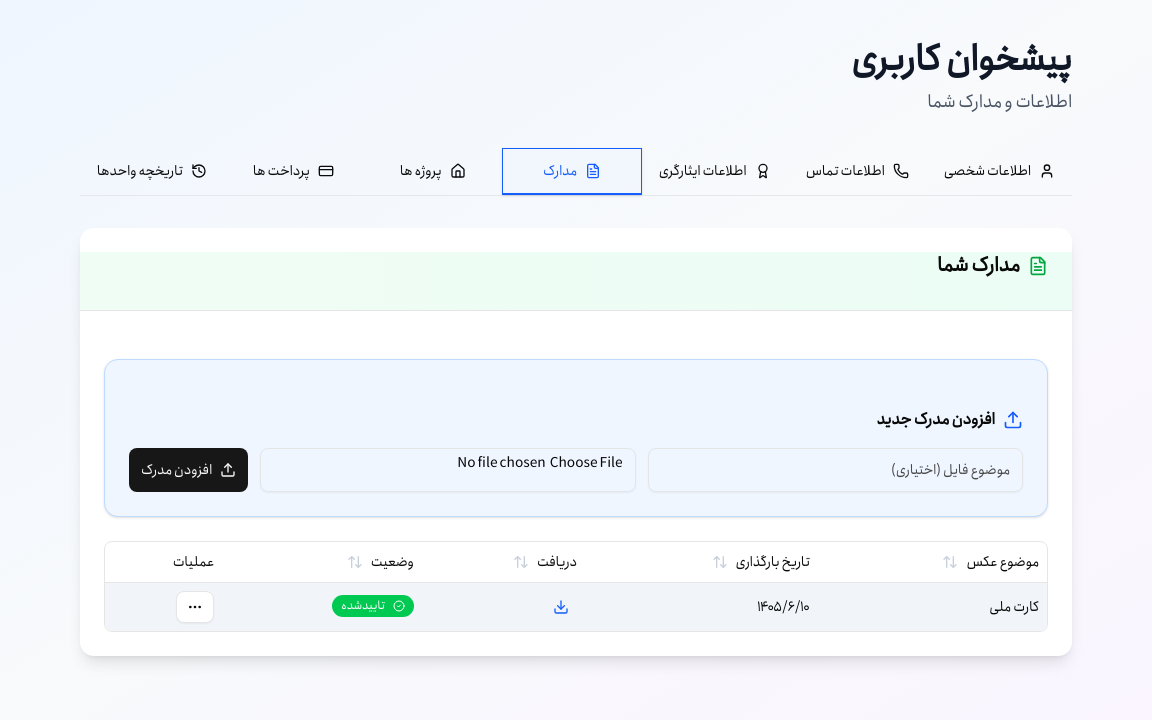
ProfilePage documents access › shows document actions without verification on an administrator dashboard
Expected: the text "کارت ملی" is shown, [989, 596, 1039, 618]
What coordinates should you click on to do the following:
click the button named "عملیات"
I would click on:
 (195, 606)
Its box is [176, 590, 214, 622].
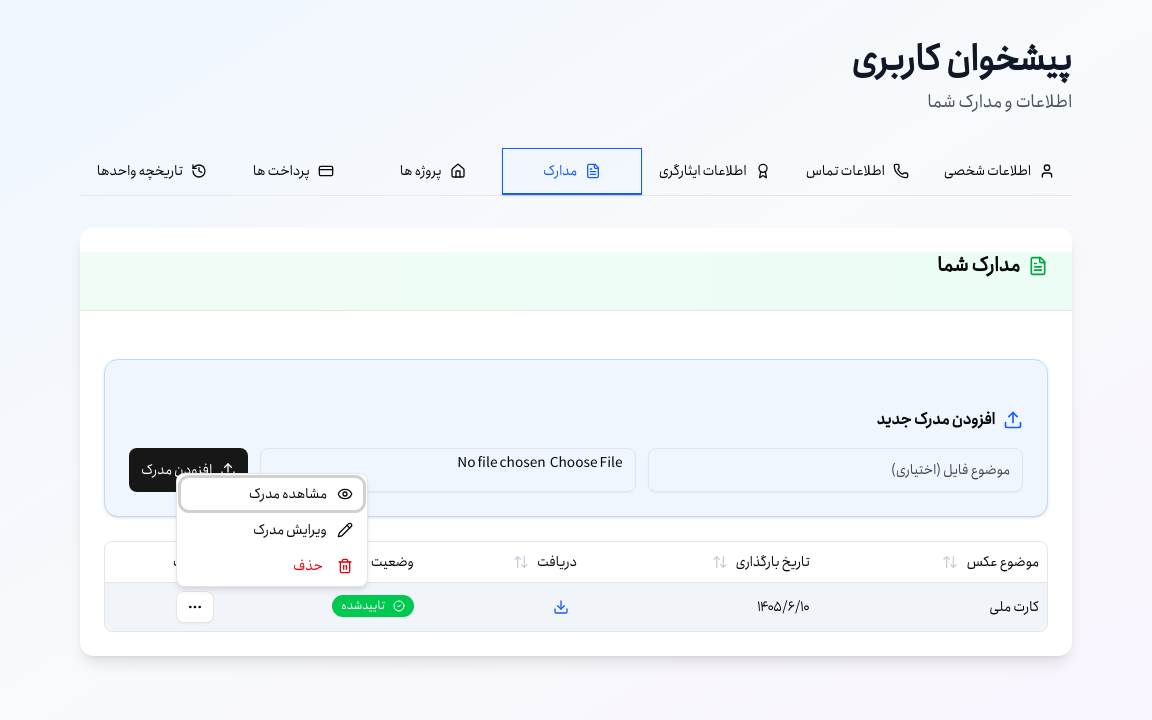
Expected: the button "مشاهده مدرک" is shown, [181, 478, 363, 510]
Expected: the button "ویرایش مدرک" is shown, [181, 514, 363, 546]
Expected: the button "حذف" is shown, [181, 550, 363, 582]
